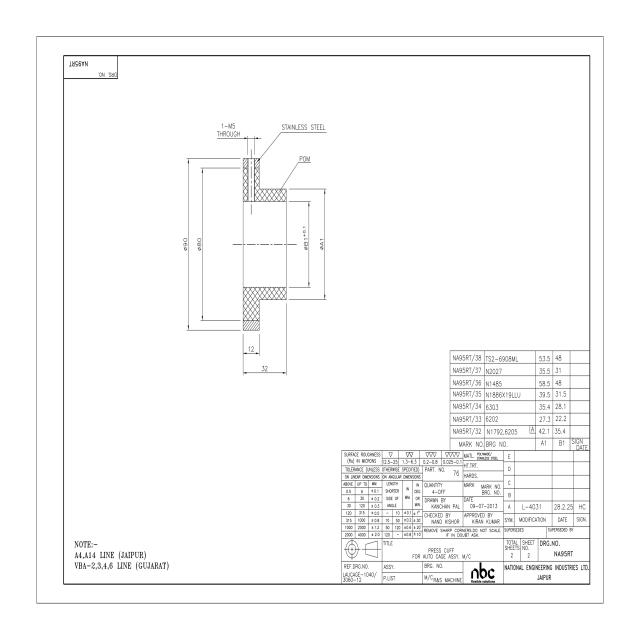dimension: (216, 121, 242, 138), (302, 224, 310, 253), (182, 236, 189, 253), (196, 236, 203, 253), (318, 236, 325, 252), (247, 345, 255, 353), (260, 365, 269, 372)
